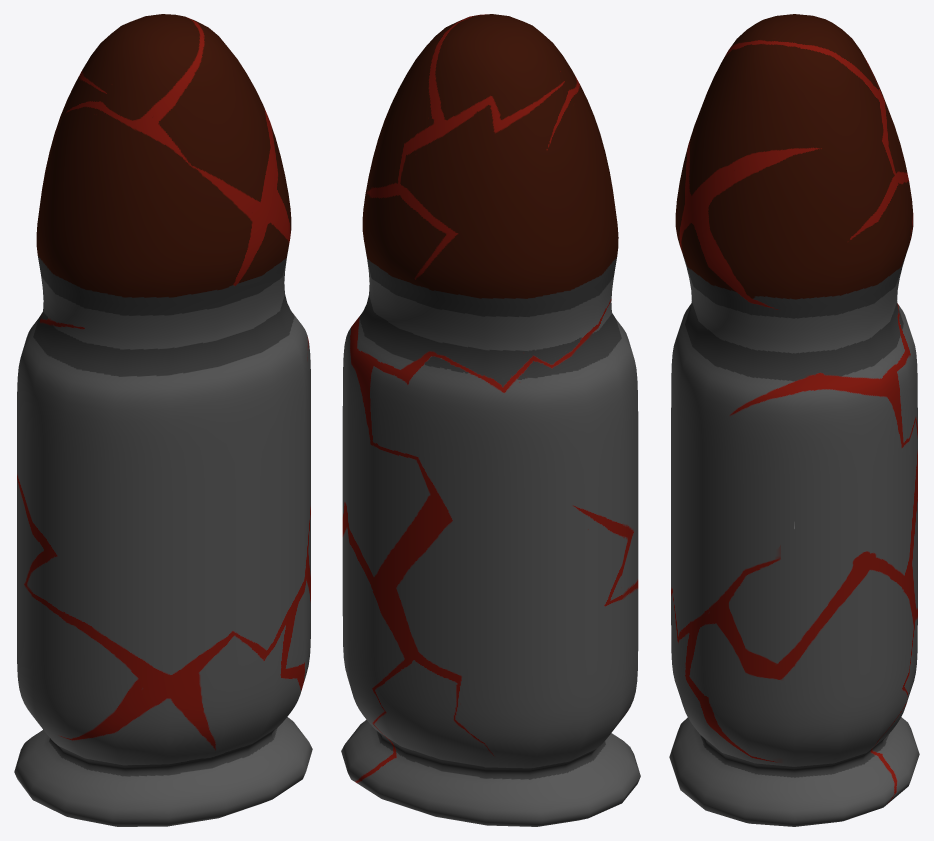
File: Bala.fbx
3 views of the same model, side by side, from view 1: azimuth 30°, elevation 25°; view 2: azimuth 150°, elevation 25°; view 3: azimuth 270°, elevation 25° (orthographic).
Parts seen in each view (by area): view 1: Cube; view 2: Cube; view 3: Cube.
Part boxes in pixels (bbox=[...]): Cube: bbox=[14, 14, 312, 826]; Cube: bbox=[341, 14, 640, 826]; Cube: bbox=[669, 14, 919, 826].
Bounding box in the file's own units: 110 × 299 × 89.65.
